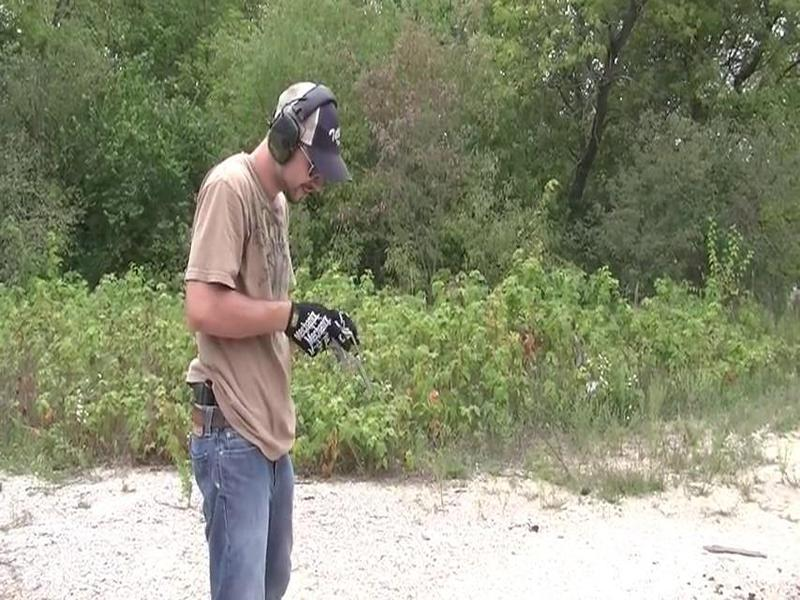Revolver: (315, 314, 390, 406)
